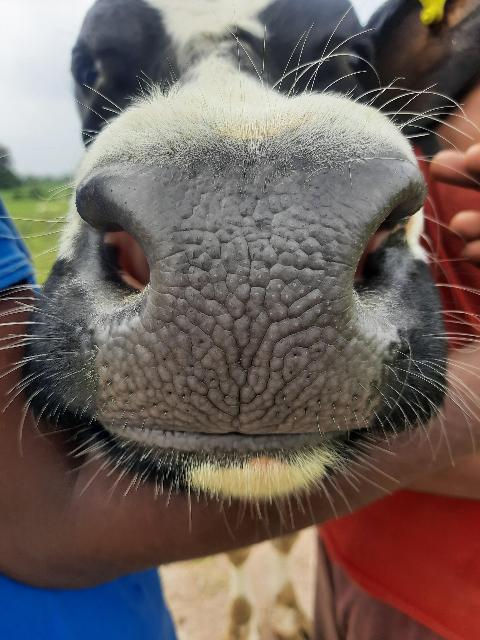Muzzle: (89, 169, 379, 429)
